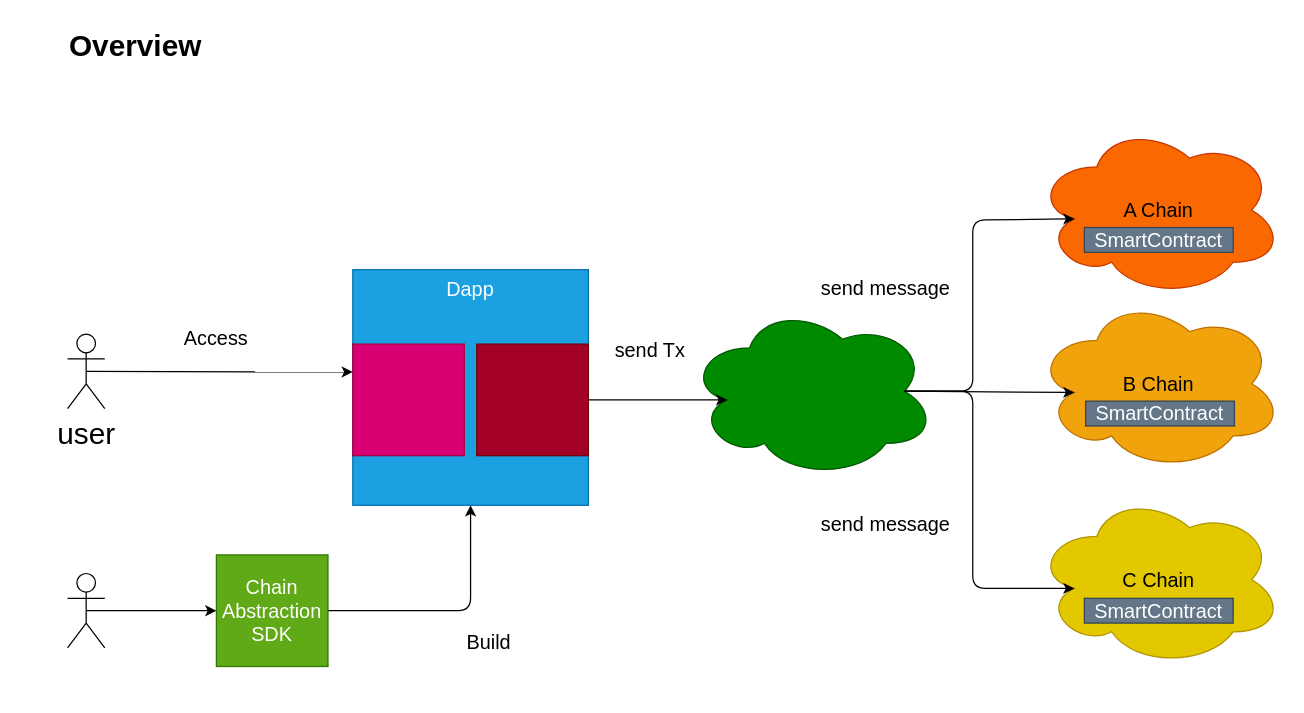
The diagram is 1304 pixels wide and 713 high, and some of its shapes have lost their labels. The shapes that lost their labels are listed below. From the top down, each one's centre as x and y in pixels, then its label:
At pixel 408 399: "INTMAX Wallet SDK".
At pixel 532 399: "Meta transaction".
At pixel 811 390: "ZetaChain".
At pixel 85 610: "developer".
